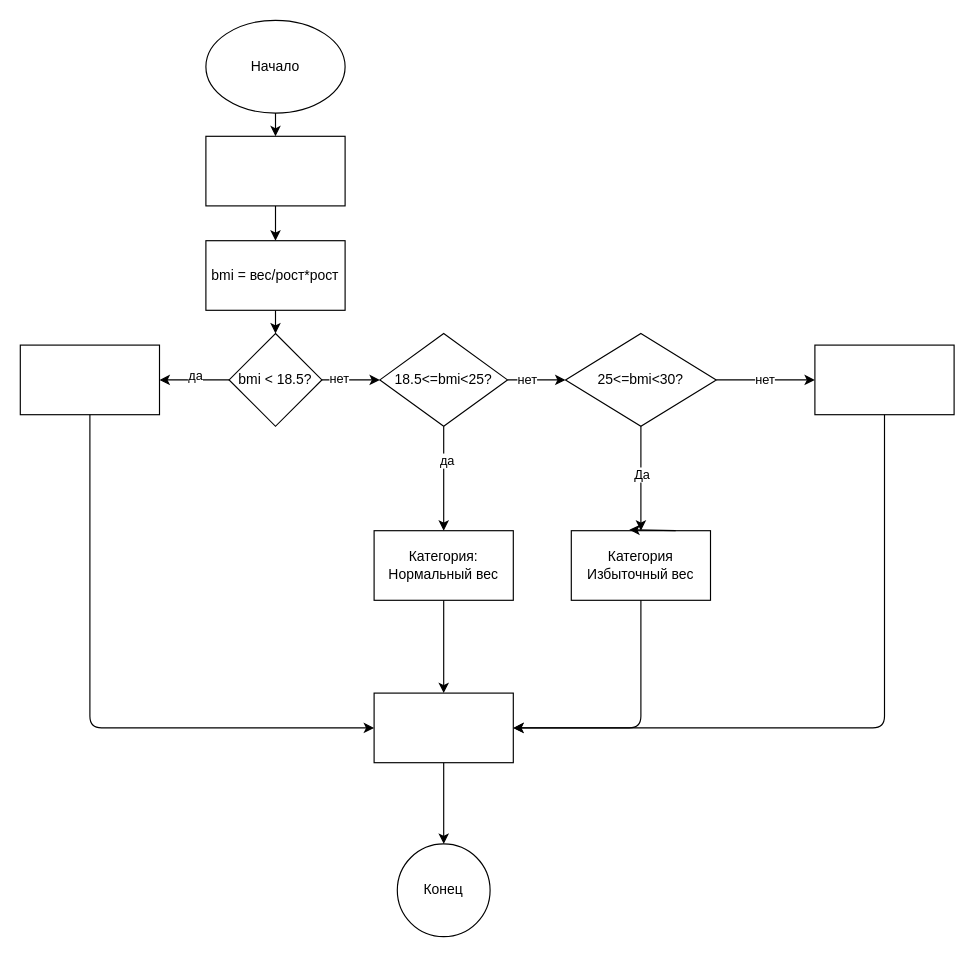
This 974x957 diagram has some shape labels left out. The shapes that lost their labels are listed below. From the top down, each one's box as (x1, y1, x2, y2) in pixels, then its label:
(205, 135, 345, 206): Ввод:вес Ввод:рост
(19, 344, 160, 415): Категория Недостоющий вес
(814, 344, 954, 415): Категория Ожирение
(373, 692, 513, 763): Вывод категории и рекомендации
